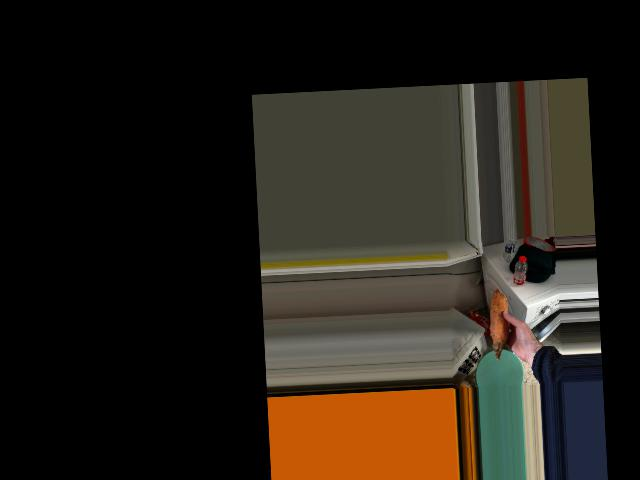sweet_potato: (489, 297, 513, 354)
